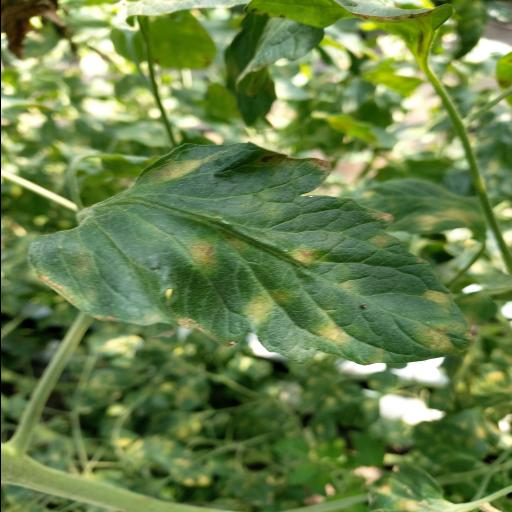disease_tomato: (27, 142, 475, 366)
